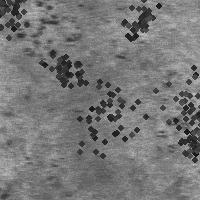rolled-in_scale: (48, 57, 166, 175), (151, 56, 200, 154), (144, 68, 193, 155), (13, 1, 78, 64), (35, 37, 91, 93), (110, 0, 162, 45), (0, 0, 43, 47), (166, 112, 200, 166)
